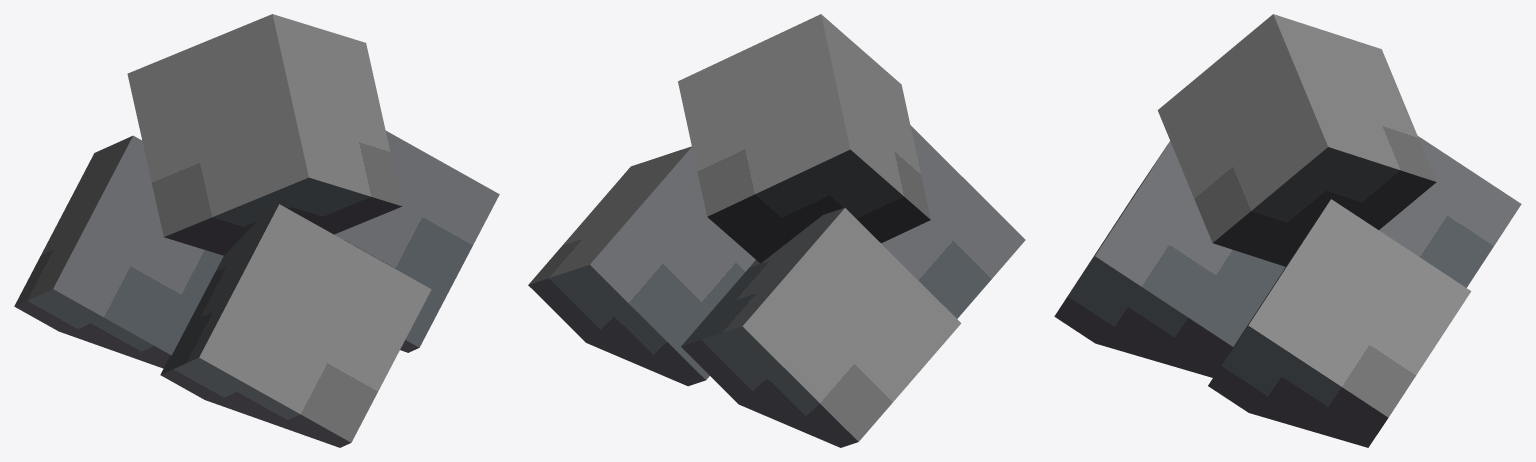
The model's file is cannonball_pyramid.fbx.
The picture shows the model from 3 angles, left to right: view 1: azimuth 30°, elevation 25°; view 2: azimuth 150°, elevation 25°; view 3: azimuth 270°, elevation 25°; orthographic projection. The views are drawn at different scales.
Visible parts, largest first — view 1: CannonballPyramid; view 2: CannonballPyramid; view 3: CannonballPyramid.
Part boxes in pixels (bbox=[...]): CannonballPyramid: bbox=[14, 14, 499, 447]; CannonballPyramid: bbox=[528, 14, 1025, 447]; CannonballPyramid: bbox=[1054, 14, 1521, 447].
Bounding box in the file's own units: 35.69 × 28.32 × 35.08.
Materials: 1 (1 with a texture image).
